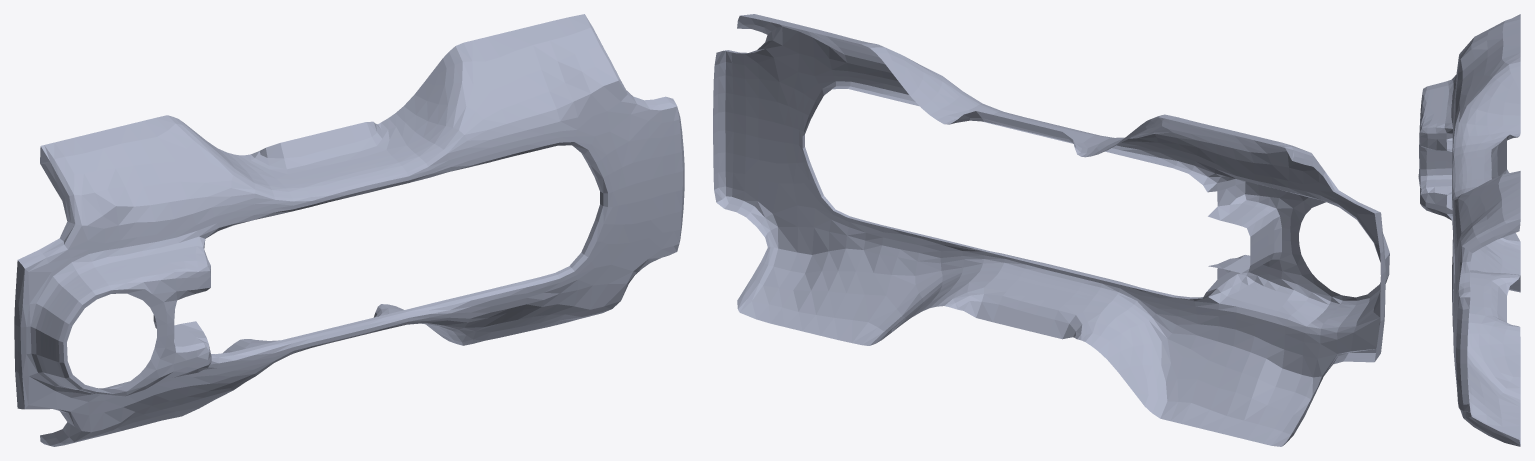
File: top_shell.obj
3 renders of one model, left to right at view 1: azimuth 30°, elevation 25°; view 2: azimuth 150°, elevation 25°; view 3: azimuth 270°, elevation 25°, orthographic. The views are drawn at different scales.
Visible parts, largest first — view 1: David_Top_Shell_Smaller_001-mesh; view 2: David_Top_Shell_Smaller_001-mesh; view 3: David_Top_Shell_Smaller_001-mesh.
Boxes of the visible parts, x1,y1,x2,y2 form: David_Top_Shell_Smaller_001-mesh: [14, 14, 684, 446]; David_Top_Shell_Smaller_001-mesh: [713, 14, 1389, 446]; David_Top_Shell_Smaller_001-mesh: [1418, 14, 1520, 446].
Bounding box in the file's own units: 0.7777 × 0.3354 × 0.1341.
